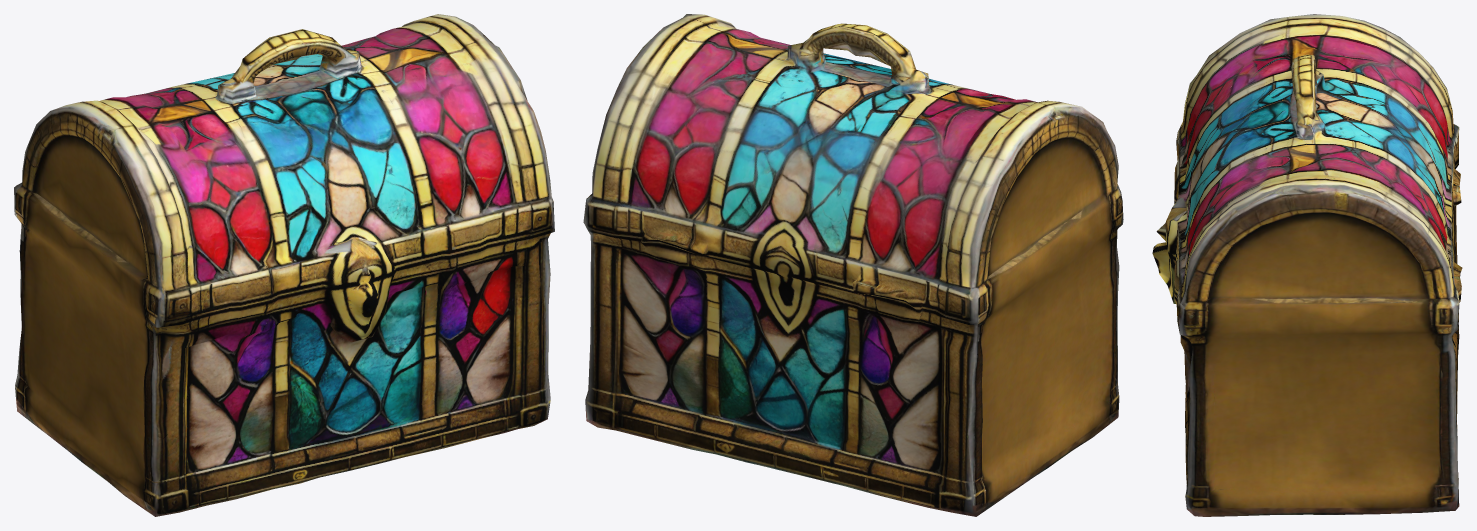
File: testGlassTreasureChest.glb
The picture shows the model from 3 angles, left to right: view 1: azimuth 30°, elevation 25°; view 2: azimuth 150°, elevation 25°; view 3: azimuth 270°, elevation 25°; orthographic projection. The views are drawn at different scales.
Visible parts, largest first — view 1: Mesh_0; view 2: Mesh_0; view 3: Mesh_0.
Part boxes in pixels (x1=…): Mesh_0: x1=14, y1=14, x2=554, y2=516; Mesh_0: x1=583, y1=14, x2=1123, y2=516; Mesh_0: x1=1152, y1=14, x2=1462, y2=516.
Bounding box in the file's own units: 1.07 × 1 × 0.7693.
Materials: 1 (1 with a texture image).
